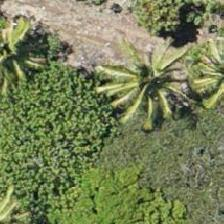coconut_tree: (94, 37, 184, 127), (0, 10, 48, 100)
